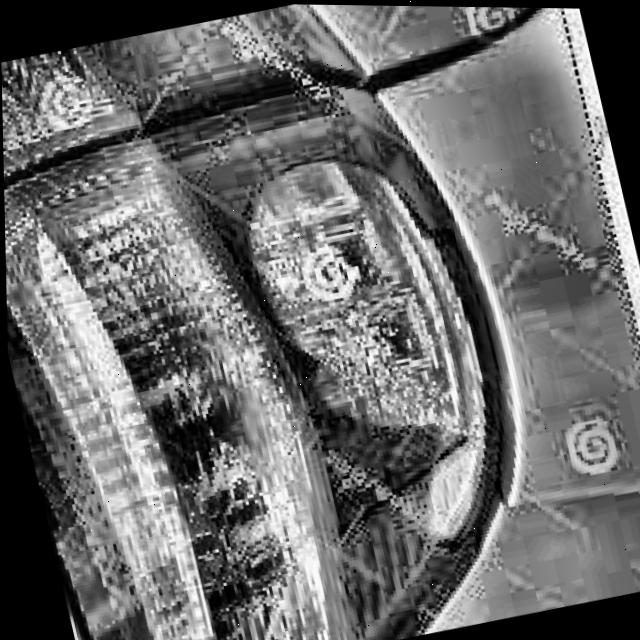tail_lamp: (259, 134, 474, 424), (368, 386, 520, 575)
